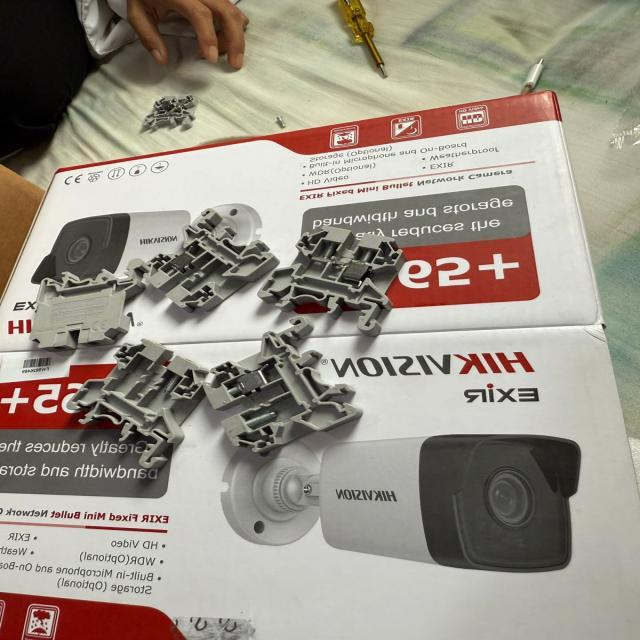Inverted: (27, 258, 148, 354)
Reject: (201, 317, 367, 456), (66, 338, 220, 475), (258, 225, 418, 332), (137, 204, 280, 315)
